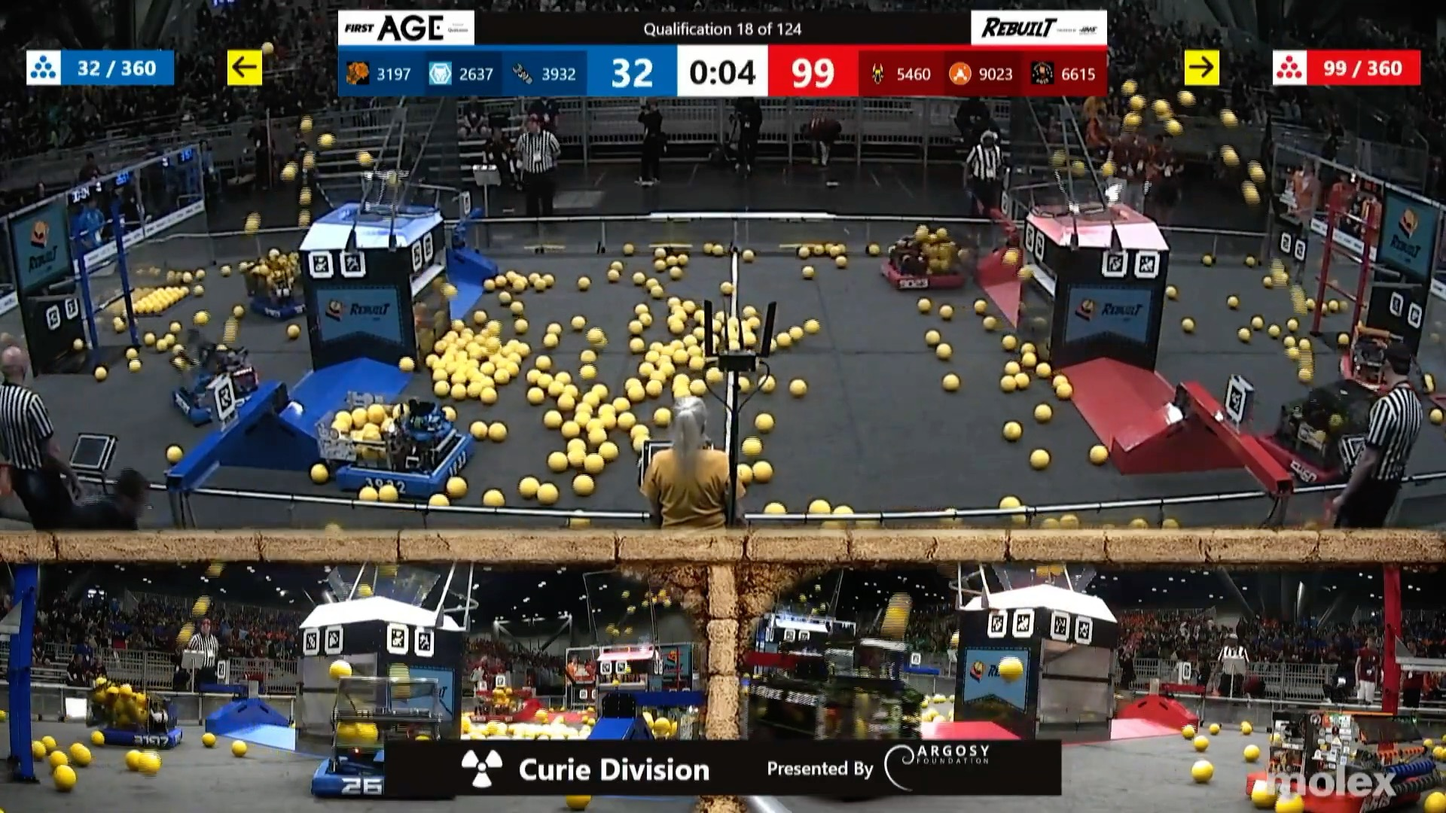bumpers: (1240, 768, 1446, 813), (334, 442, 479, 498), (1251, 425, 1383, 486), (162, 373, 288, 429), (306, 748, 399, 801), (872, 257, 978, 296), (1336, 354, 1416, 405), (94, 714, 195, 754), (243, 291, 328, 321)
